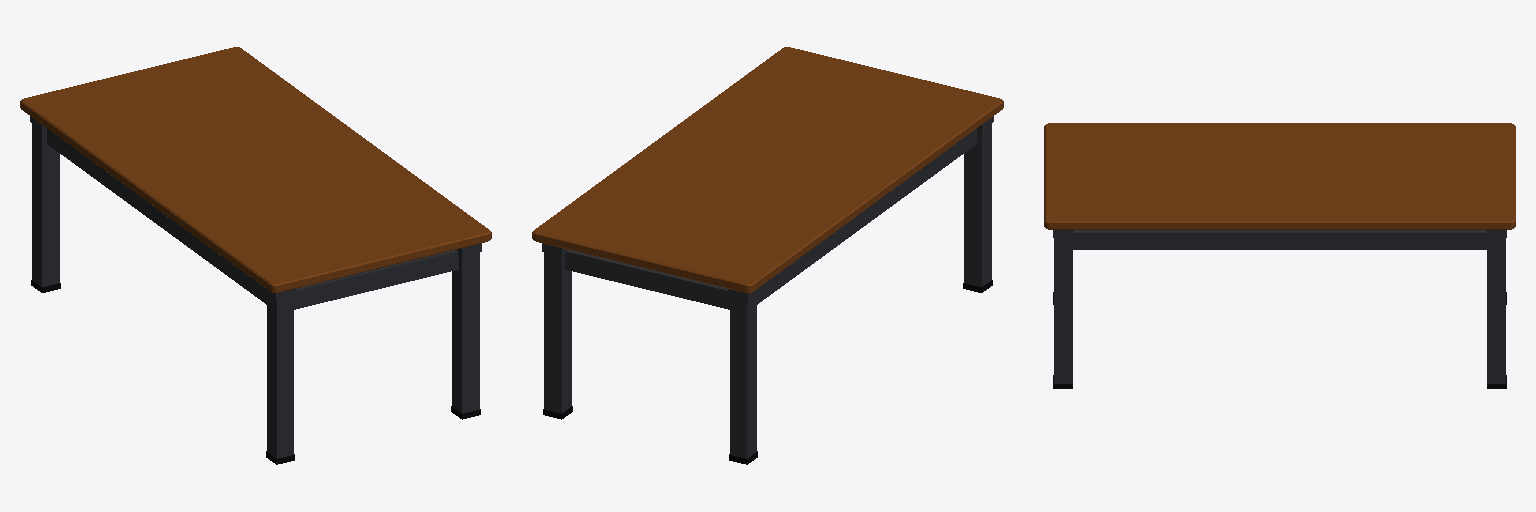
robot.urdf — table:
<robot name="table">
  <mujoco>
    <compiler discardvisual="false" fusestatic="false" />
  </mujoco>
  <link name="work_table">
    <inertial>
      <origin xyz="0 0 0.4" rpy="0 0 0" />
      <mass value="22" />
      <inertia ixx="4.0" ixy="0" ixz="0" iyy="1.3" iyz="0" izz="4.4" />
    </inertial>
    <visual>
      <origin xyz="0 0 0" rpy="0 0 0" />
      <geometry>
        <mesh filename="table_meshes/metal_frame.obj" />
      </geometry>
      <material name="metal_frame">
        <color rgba="0.22 0.23 0.25 1" />
      </material>
    </visual>
    <visual>
      <origin xyz="0 0 0" rpy="0 0 0" />
      <geometry>
        <mesh filename="table_meshes/tabletop.obj" />
      </geometry>
      <material name="tabletop">
        <color rgba="0.48 0.28 0.12 1" />
      </material>
    </visual>
    <collision>
      <origin xyz="0 0 0.5845" rpy="0 0 0" />
      <geometry>
        <box size="0.744 1.494 0.027" />
      </geometry>
    </collision>
  </link>
  <link name="leg_01">
    <visual>
      <origin xyz="0 0 0" rpy="0 0 0" />
      <geometry>
        <mesh filename="table_meshes/leg.obj" />
      </geometry>
      <material name="leg">
        <color rgba="0.22 0.23 0.25 1" />
      </material>
    </visual>
    <visual>
      <origin xyz="0 0 0" rpy="0 0 0" />
      <geometry>
        <mesh filename="table_meshes/feet.obj" />
      </geometry>
      <material name="feet">
        <color rgba="0.08 0.08 0.09 1" />
      </material>
    </visual>
    <collision>
      <origin xyz="0 0 0.285" rpy="0 0 0" />
      <geometry>
        <box size="0.058 0.058 0.55" />
      </geometry>
    </collision>
  </link>
  <joint name="leg_01_fixed" type="fixed">
    <parent link="work_table" />
    <child link="leg_01" />
    <origin xyz="-0.315 -0.69 0" rpy="0 0 0" />
  </joint>
  <link name="leg_02">
    <visual>
      <origin xyz="0 0 0" rpy="0 0 0" />
      <geometry>
        <mesh filename="table_meshes/leg.obj" />
      </geometry>
      <material name="leg">
        <color rgba="0.22 0.23 0.25 1" />
      </material>
    </visual>
    <visual>
      <origin xyz="0 0 0" rpy="0 0 0" />
      <geometry>
        <mesh filename="table_meshes/feet.obj" />
      </geometry>
      <material name="feet">
        <color rgba="0.08 0.08 0.09 1" />
      </material>
    </visual>
    <collision>
      <origin xyz="0 0 0.285" rpy="0 0 0" />
      <geometry>
        <box size="0.058 0.058 0.55" />
      </geometry>
    </collision>
  </link>
  <joint name="leg_02_fixed" type="fixed">
    <parent link="work_table" />
    <child link="leg_02" />
    <origin xyz="-0.315 0.69 0" rpy="0 0 0" />
  </joint>
  <link name="leg_03">
    <visual>
      <origin xyz="0 0 0" rpy="0 0 0" />
      <geometry>
        <mesh filename="table_meshes/leg.obj" />
      </geometry>
      <material name="leg">
        <color rgba="0.22 0.23 0.25 1" />
      </material>
    </visual>
    <visual>
      <origin xyz="0 0 0" rpy="0 0 0" />
      <geometry>
        <mesh filename="table_meshes/feet.obj" />
      </geometry>
      <material name="feet">
        <color rgba="0.08 0.08 0.09 1" />
      </material>
    </visual>
    <collision>
      <origin xyz="0 0 0.285" rpy="0 0 0" />
      <geometry>
        <box size="0.058 0.058 0.55" />
      </geometry>
    </collision>
  </link>
  <joint name="leg_03_fixed" type="fixed">
    <parent link="work_table" />
    <child link="leg_03" />
    <origin xyz="0.315 -0.69 0" rpy="0 0 0" />
  </joint>
  <link name="leg_04">
    <visual>
      <origin xyz="0 0 0" rpy="0 0 0" />
      <geometry>
        <mesh filename="table_meshes/leg.obj" />
      </geometry>
      <material name="leg">
        <color rgba="0.22 0.23 0.25 1" />
      </material>
    </visual>
    <visual>
      <origin xyz="0 0 0" rpy="0 0 0" />
      <geometry>
        <mesh filename="table_meshes/feet.obj" />
      </geometry>
      <material name="feet">
        <color rgba="0.08 0.08 0.09 1" />
      </material>
    </visual>
    <collision>
      <origin xyz="0 0 0.285" rpy="0 0 0" />
      <geometry>
        <box size="0.058 0.058 0.55" />
      </geometry>
    </collision>
  </link>
  <joint name="leg_04_fixed" type="fixed">
    <parent link="work_table" />
    <child link="leg_04" />
    <origin xyz="0.315 0.69 0" rpy="0 0 0" />
  </joint>
</robot>

--- Render facts (derived) ---
3 views of the same robot in one strip: view 1: azimuth 30°, elevation 25°; view 2: azimuth 150°, elevation 25°; view 3: azimuth 270°, elevation 25° (orthographic).
Model table with 5 links and 4 joints (4 fixed), rooted at work_table, posed all joints at 0.
Visible links, largest first — view 1: work_table, leg_01, leg_03, leg_02; view 2: work_table, leg_02, leg_04, leg_01; view 3: work_table, leg_03, leg_04.
Boxes of the visible links, x1,y1,x2,y2 form: work_table: (20, 47, 491, 309); leg_01: (265, 288, 295, 464); leg_03: (451, 243, 481, 419); leg_02: (30, 116, 60, 292); work_table: (532, 47, 1003, 309); leg_02: (728, 288, 758, 464); leg_04: (542, 243, 572, 419); leg_01: (963, 116, 993, 292); work_table: (1044, 123, 1515, 249); leg_03: (1053, 230, 1073, 388); leg_04: (1486, 230, 1506, 388).
Bounding box of the posed robot: 0.75 × 1.5 × 0.6 m (x, y, z).
10 mesh visuals loaded from 4 distinct referenced files (4 OBJ).
